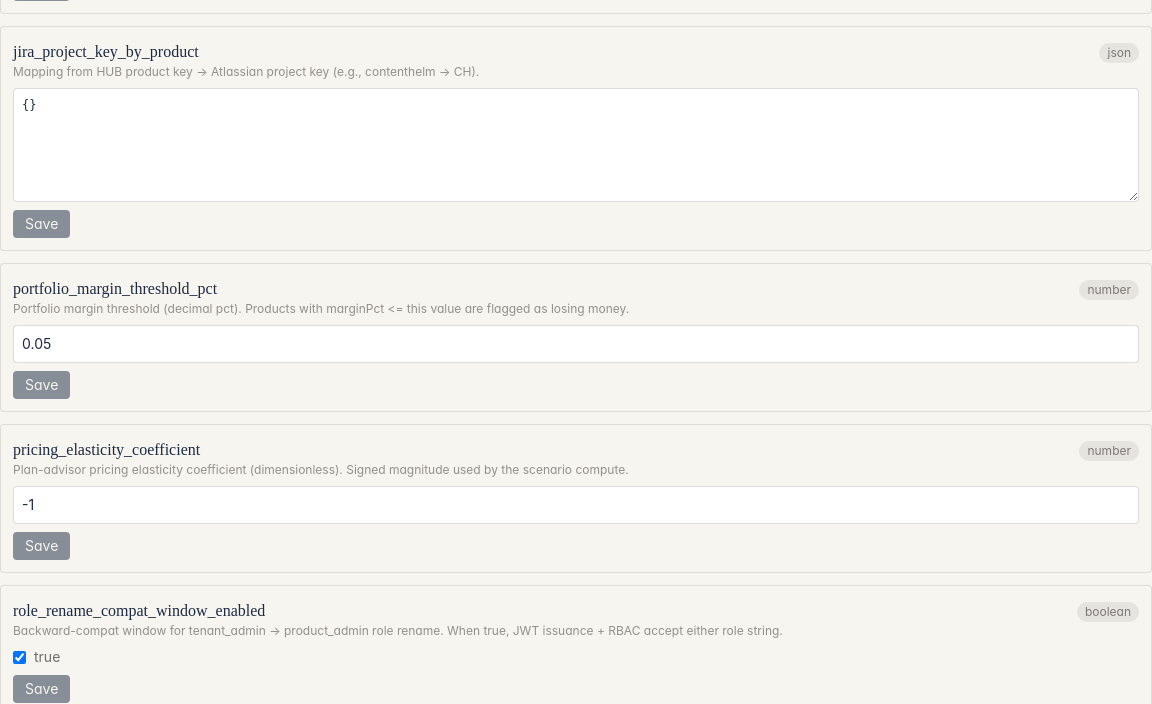
Test: HubSettingsManager (HUB-1664) › discard › reverts the raw editor to the last server value
The image size is (1152, 704).
(page scrolled)
Replace the text in the number field with test id "hub-settings-input-portfolio_margin_threshold_pct" with "0.99": (576, 344) [13, 325, 1139, 363]
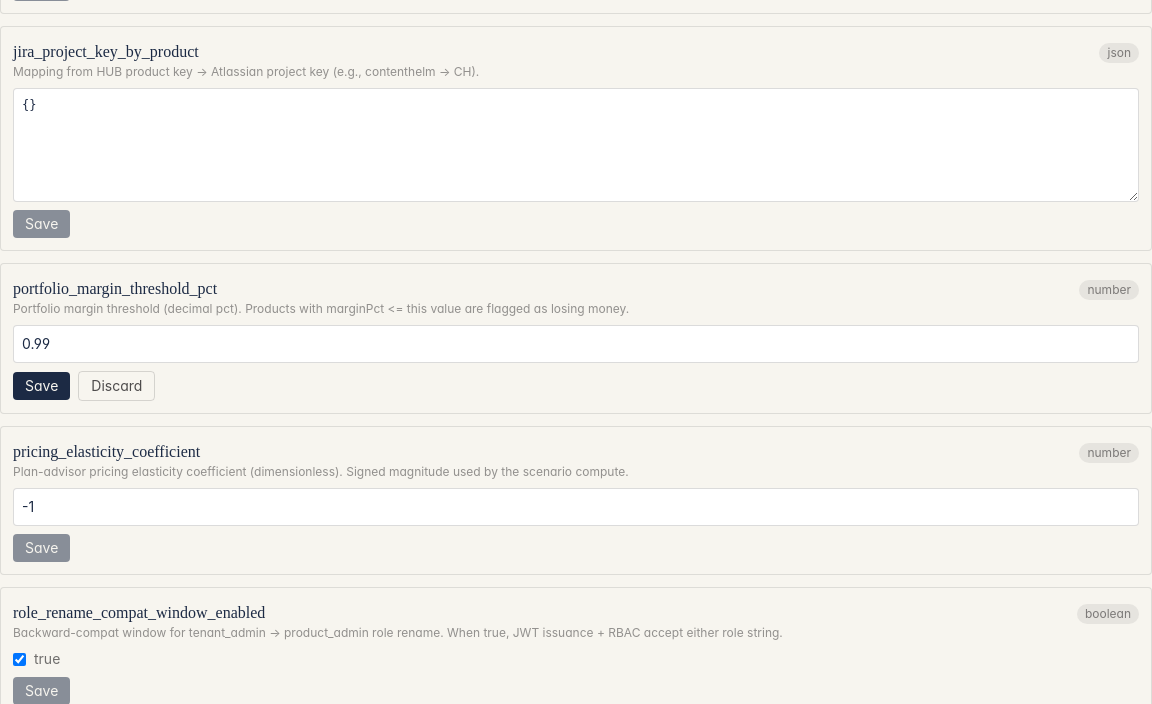
Click the button with test id "hub-settings-discard-portfolio_margin_threshold_pct": (117, 386) [78, 371, 155, 401]
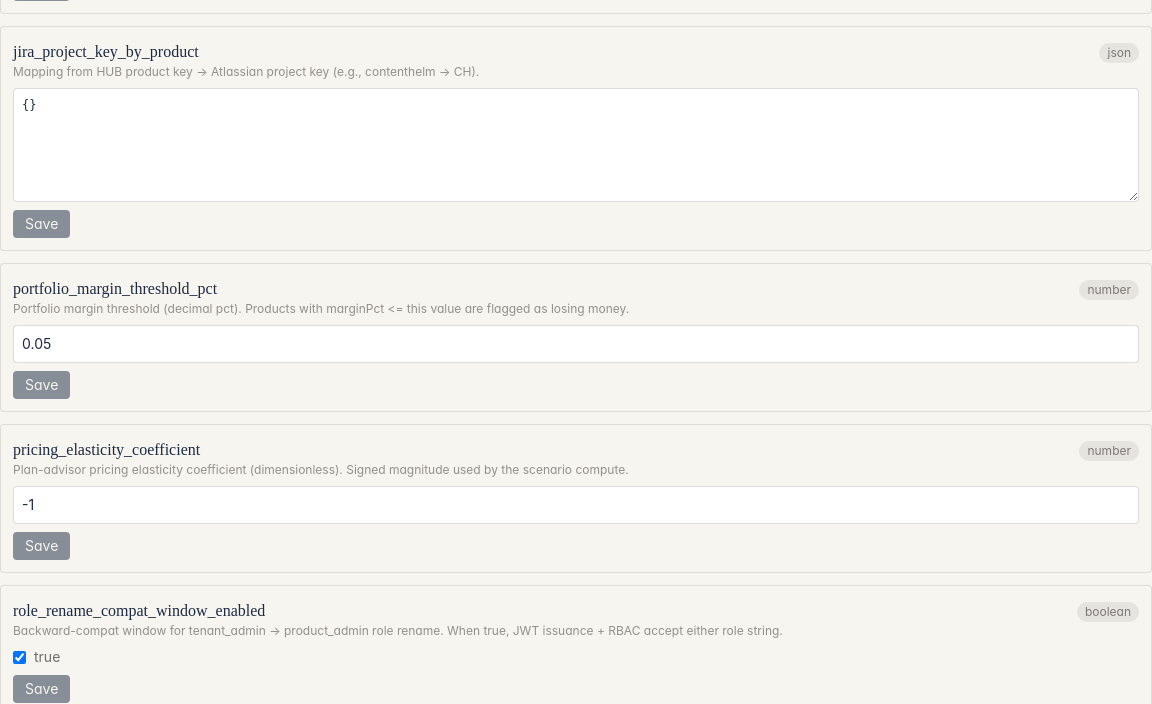
Check: the number field with test id "hub-settings-input-portfolio_margin_threshold_pct" holds "0.05", box [13, 325, 1139, 363]
